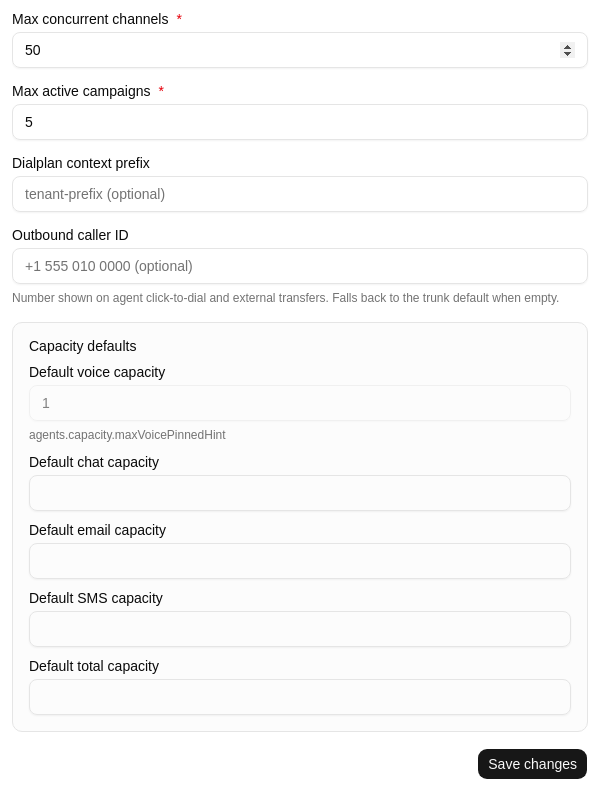
TenantSettingsForm › Validate_ShouldBlockSubmit_WhenRequiredFieldEmpty
Clear the number field with test id "field-maxConcurrentChannels" at (300,50), box [12,32,588,68]
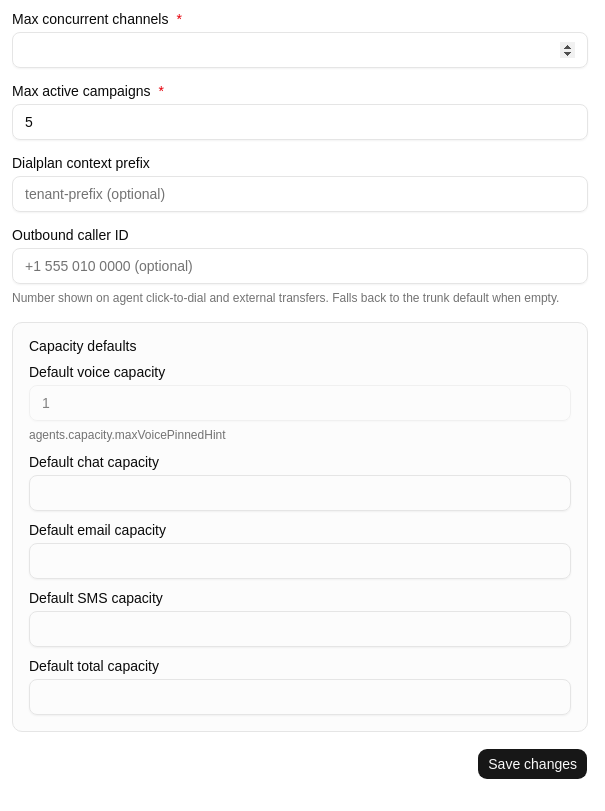
Click the button with test id "tenant-settings-submit" at (533,764), box [477,748,588,780]
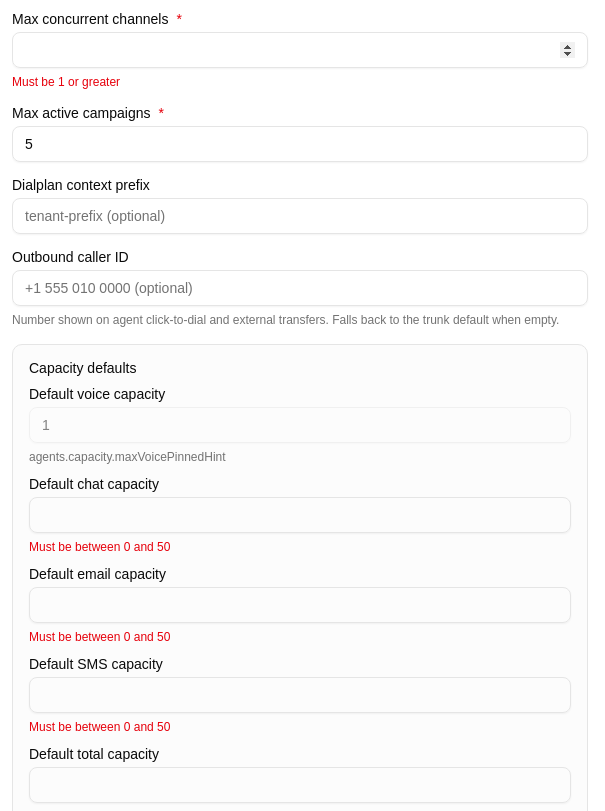
Now the message "Must be 1 or greater" is shown, box [12,75,120,89]
